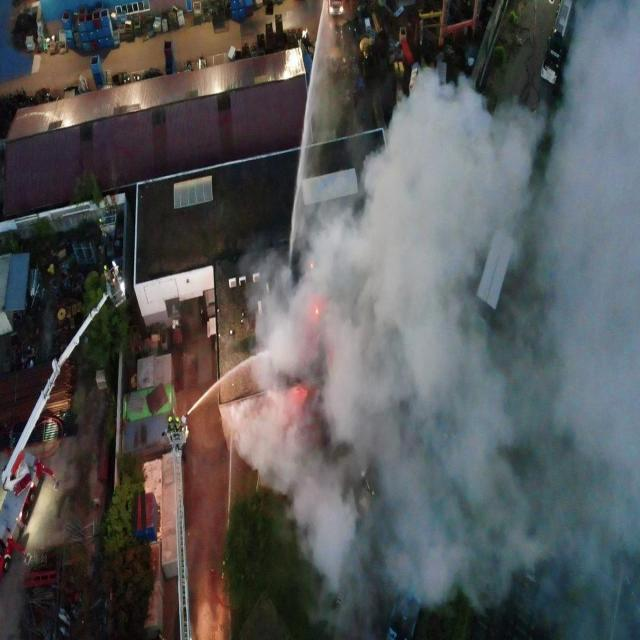Fire: (315, 308, 318, 314), (310, 264, 314, 268)
Smoke: (225, 0, 640, 640)
